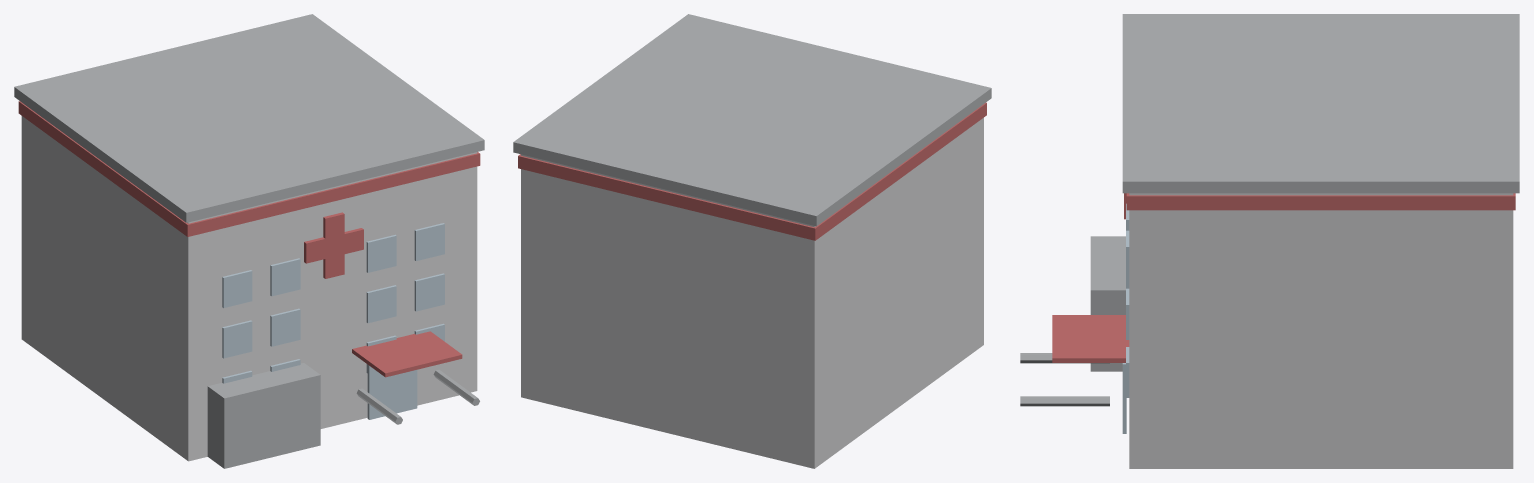
The model's file is building-hospital.glb.
The picture shows the model from 3 angles, left to right: view 1: azimuth 30°, elevation 25°; view 2: azimuth 150°, elevation 25°; view 3: azimuth 270°, elevation 25°; orthographic projection. The views are drawn at different scales.
Parts seen in each view (by area): view 1: building-hospital_part_0, building-hospital_part_1, building-hospital_part_17, building-hospital_part_2, building-hospital_part_19, building-hospital_part_18, building-hospital_part_3, building-hospital_part_4, building-hospital_part_6, building-hospital_part_9, building-hospital_part_10, building-hospital_part_15 (+6 smaller); view 2: building-hospital_part_0, building-hospital_part_1, building-hospital_part_2; view 3: building-hospital_part_0, building-hospital_part_1, building-hospital_part_2, building-hospital_part_19, building-hospital_part_17, building-hospital_part_20.
Boxes of the visible parts, box(x1,y1,x2,y2) form: building-hospital_part_0: box(21, 116, 477, 461); building-hospital_part_1: box(14, 14, 484, 222); building-hospital_part_17: box(207, 363, 320, 468); building-hospital_part_2: box(18, 101, 480, 236); building-hospital_part_19: box(352, 331, 462, 377); building-hospital_part_18: box(367, 365, 417, 419); building-hospital_part_3: box(323, 212, 344, 278); building-hospital_part_4: box(304, 228, 363, 263); building-hospital_part_6: box(222, 320, 252, 358); building-hospital_part_9: box(270, 308, 300, 346); building-hospital_part_10: box(270, 258, 300, 296); building-hospital_part_15: box(414, 273, 444, 311); building-hospital_part_0: box(521, 117, 983, 468); building-hospital_part_1: box(513, 14, 991, 226); building-hospital_part_2: box(518, 102, 986, 240); building-hospital_part_0: box(1129, 193, 1513, 468); building-hospital_part_1: box(1122, 14, 1519, 193); building-hospital_part_2: box(1126, 193, 1515, 210); building-hospital_part_19: box(1052, 315, 1129, 362); building-hospital_part_17: box(1090, 236, 1125, 371); building-hospital_part_20: box(1020, 396, 1109, 406).
Size of the model in its own units: 15.5 by 12.5 by 19.5.
